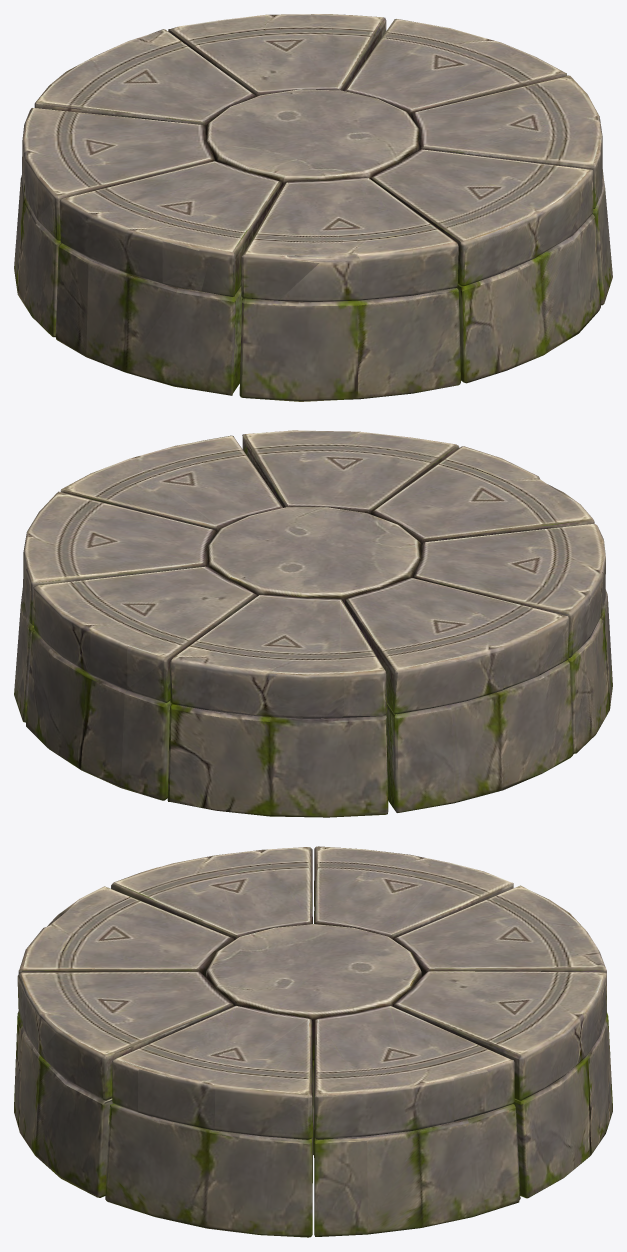
The model's file is stone-circle.glb.
The picture shows the model from 3 angles, top to bottom: view 1: azimuth 30°, elevation 25°; view 2: azimuth 150°, elevation 25°; view 3: azimuth 270°, elevation 25°; orthographic projection.
Size of the model in its own units: 1 by 0.2646 by 1.
1 material, 1 textured.
